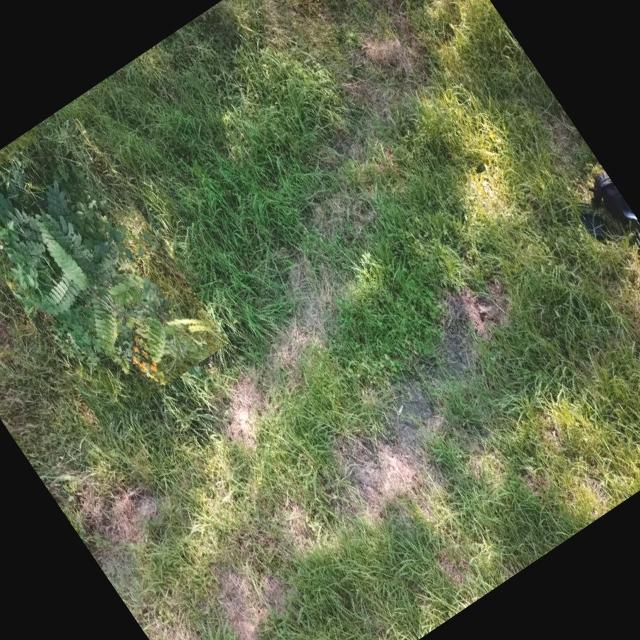Mysore-Thorn-Weed: (0, 115, 229, 427)
